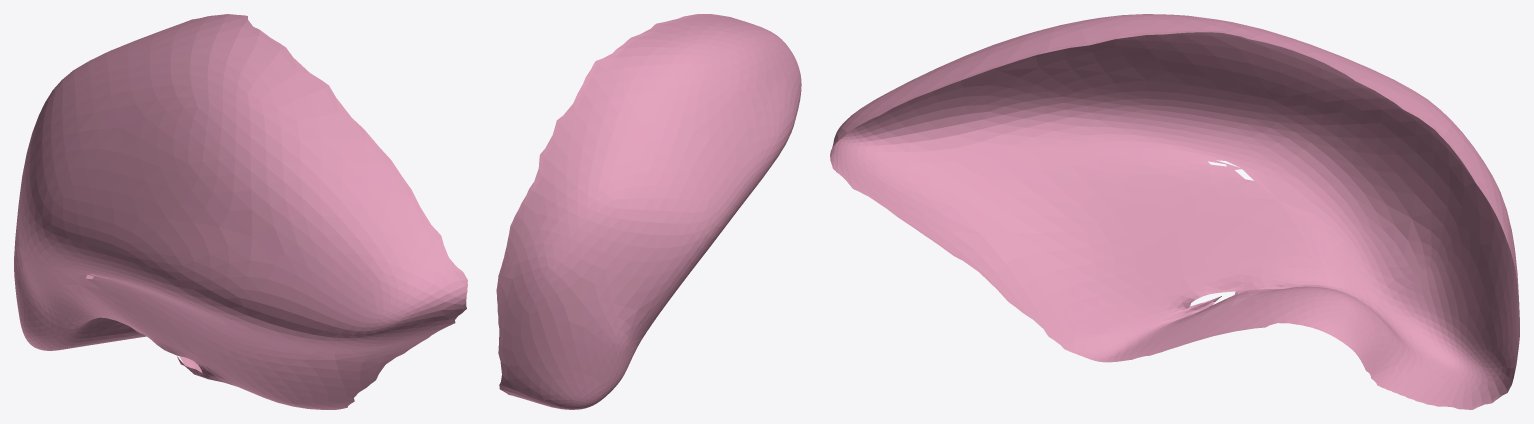
Rendered from lingua_interno.glb.
The picture shows the model from 3 angles, left to right: view 1: azimuth 30°, elevation 25°; view 2: azimuth 150°, elevation 25°; view 3: azimuth 270°, elevation 25°; orthographic projection. The views are drawn at different scales.
Parts seen in each view (by area): view 1: tongue; view 2: tongue; view 3: tongue.
Part boxes in pixels (x1,y1,x2,y2): tongue: (14,14,467,409); tongue: (496,14,801,409); tongue: (830,14,1519,409).
Bounding box in the file's own units: 17.58 × 35.49 × 58.73.
